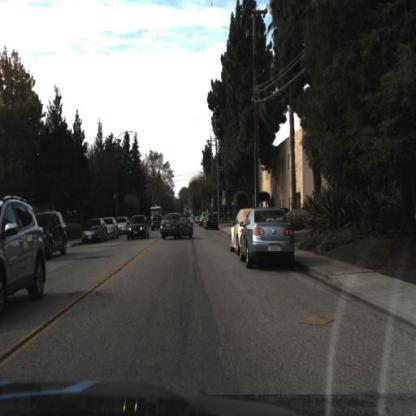car: (1, 193, 47, 309), (240, 208, 294, 268), (36, 199, 77, 266), (224, 200, 249, 269), (35, 211, 69, 258), (157, 210, 195, 245), (159, 213, 197, 240), (80, 217, 110, 250), (126, 210, 150, 242), (82, 221, 109, 244), (204, 209, 222, 230), (106, 215, 119, 243), (118, 216, 131, 239), (150, 212, 163, 233)
truck: (149, 204, 163, 221)
